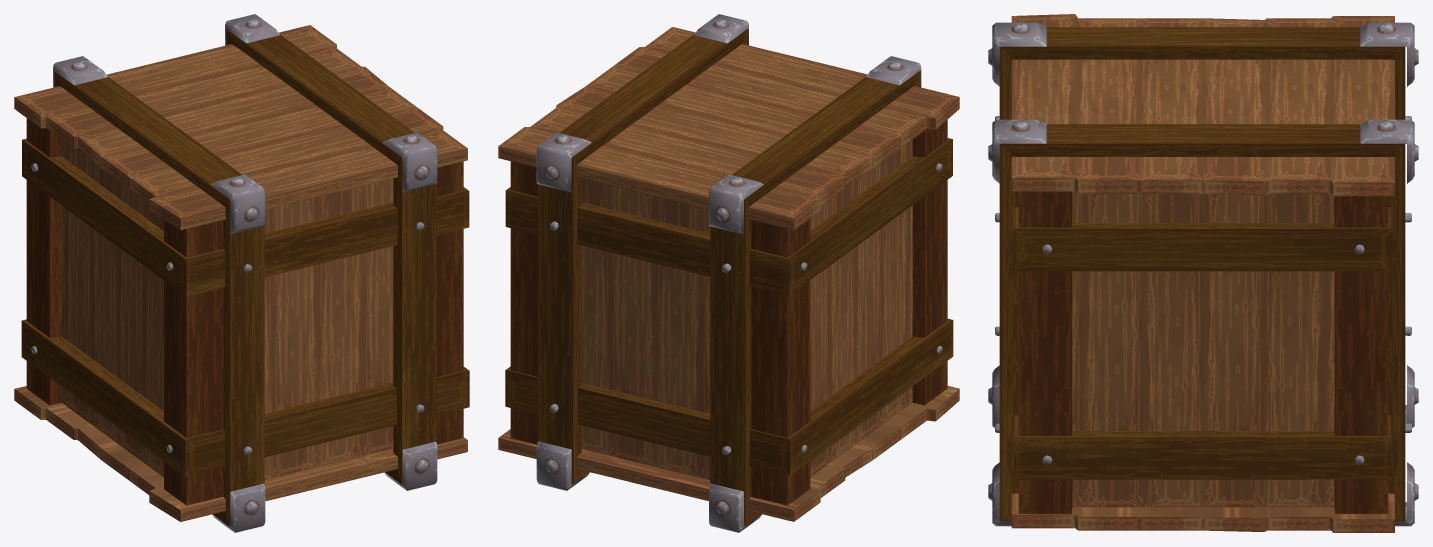
Rendered from Crate_Wooden.gltf.
3 views of the same model, side by side, from view 1: azimuth 30°, elevation 25°; view 2: azimuth 150°, elevation 25°; view 3: azimuth 270°, elevation 25° (orthographic). The views are drawn at different scales.
Visible parts, largest first — view 1: Crate_Wooden; view 2: Crate_Wooden; view 3: Crate_Wooden.
Boxes of the visible parts, x1,y1,x2,y2 form: Crate_Wooden: (14,14,469,532); Crate_Wooden: (498,14,959,532); Crate_Wooden: (988,14,1418,532).
Bounding box in the file's own units: 0.8423 × 0.9309 × 0.9083.
2 materials, 2 textured.
